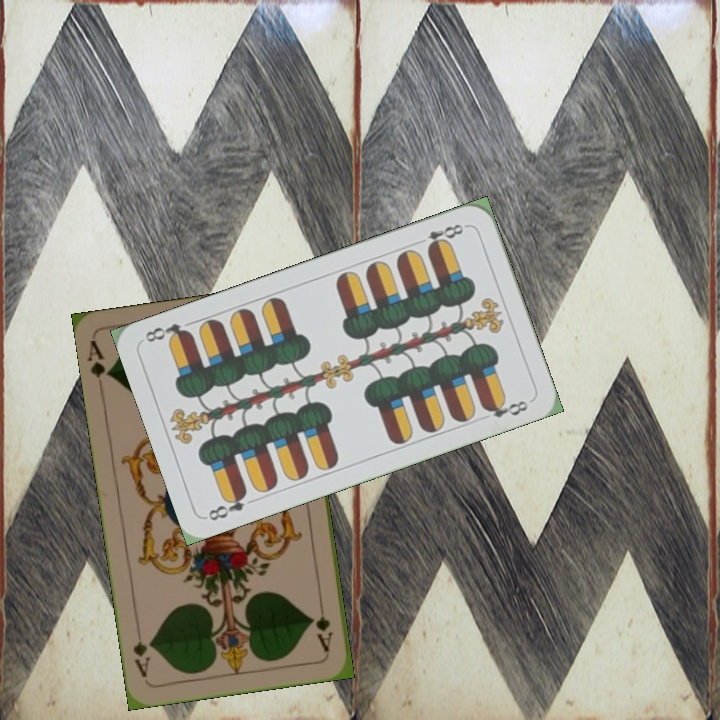E8: (204, 487, 250, 524), (423, 220, 470, 253)
GA: (311, 596, 336, 654), (84, 336, 115, 381)
